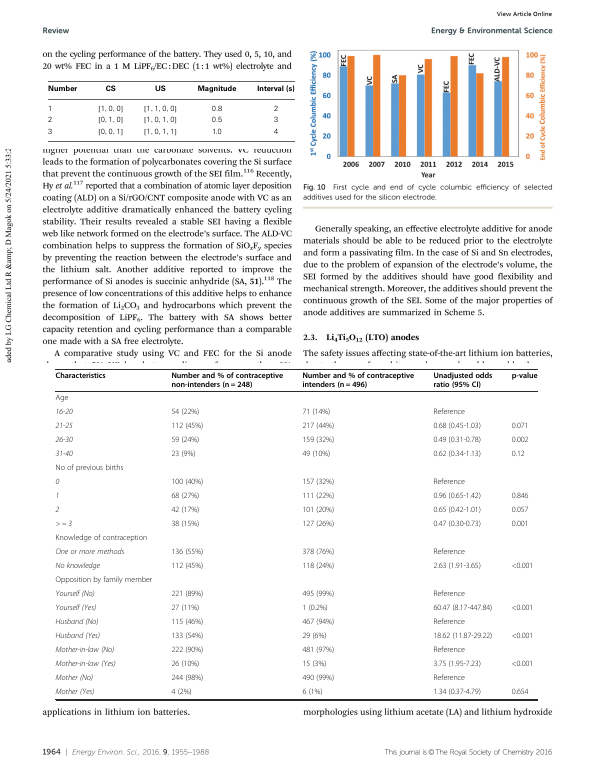borderless: (54, 368, 537, 699), (47, 79, 295, 141)
cell: (170, 372, 284, 390), (301, 372, 415, 390), (432, 372, 493, 390), (55, 576, 153, 586), (55, 534, 148, 544), (55, 464, 124, 474), (55, 548, 125, 557), (432, 604, 493, 614), (432, 632, 493, 642), (55, 660, 117, 669), (55, 646, 115, 655), (432, 422, 482, 432), (432, 436, 482, 446), (432, 450, 482, 460), (432, 492, 482, 502), (432, 506, 482, 516), (432, 520, 482, 530), (432, 562, 482, 572), (432, 660, 482, 670), (432, 688, 482, 698), (55, 372, 107, 381), (55, 562, 101, 572), (55, 632, 101, 641), (55, 618, 99, 627), (55, 604, 97, 613), (55, 590, 96, 599), (196, 85, 237, 94), (55, 688, 95, 697), (55, 674, 94, 683), (256, 85, 295, 94), (432, 408, 466, 418), (170, 422, 204, 432), (301, 422, 335, 432), (301, 436, 335, 446), (170, 478, 204, 488), (301, 478, 335, 488), (432, 478, 466, 488), (301, 492, 335, 502), (301, 506, 335, 516), (301, 520, 335, 530), (170, 548, 204, 558), (301, 548, 335, 558), (432, 548, 466, 558), (170, 562, 204, 572), (301, 562, 335, 572), (170, 590, 204, 600), (301, 590, 335, 600), (432, 590, 466, 600), (170, 618, 204, 628), (301, 618, 335, 628), (432, 618, 466, 628), (170, 632, 204, 642), (170, 646, 204, 656), (301, 646, 335, 656), (432, 646, 466, 656), (170, 674, 204, 684), (301, 674, 335, 684), (432, 674, 466, 684), (142, 104, 177, 113), (142, 127, 177, 136), (170, 408, 200, 418), (301, 408, 331, 418), (170, 436, 200, 446), (301, 450, 331, 460), (170, 492, 200, 502), (170, 506, 200, 516), (170, 520, 200, 530), (170, 604, 200, 614), (170, 660, 200, 670), (46, 85, 78, 94), (301, 604, 329, 614), (142, 116, 177, 124), (170, 450, 196, 460), (301, 632, 327, 642), (301, 660, 327, 670), (511, 372, 538, 381), (97, 104, 124, 113), (97, 127, 124, 136), (511, 562, 534, 572), (511, 604, 534, 614), (511, 632, 534, 642), (511, 660, 534, 670), (170, 688, 192, 698), (301, 688, 323, 698), (97, 116, 124, 124), (511, 422, 529, 432), (511, 436, 529, 446), (511, 492, 529, 502), (511, 506, 529, 516), (511, 520, 529, 530), (511, 688, 529, 698), (55, 408, 73, 417), (55, 422, 73, 431), (55, 436, 73, 445), (55, 450, 73, 459), (55, 520, 73, 529), (511, 450, 526, 460), (55, 394, 69, 404), (153, 85, 166, 94), (104, 85, 116, 94), (210, 104, 223, 112), (210, 116, 223, 123), (211, 127, 222, 135), (46, 104, 53, 112), (272, 104, 278, 112), (47, 127, 53, 135), (272, 127, 278, 135), (55, 478, 60, 487), (55, 492, 60, 501), (55, 506, 60, 515), (47, 116, 53, 123), (272, 116, 278, 123)
